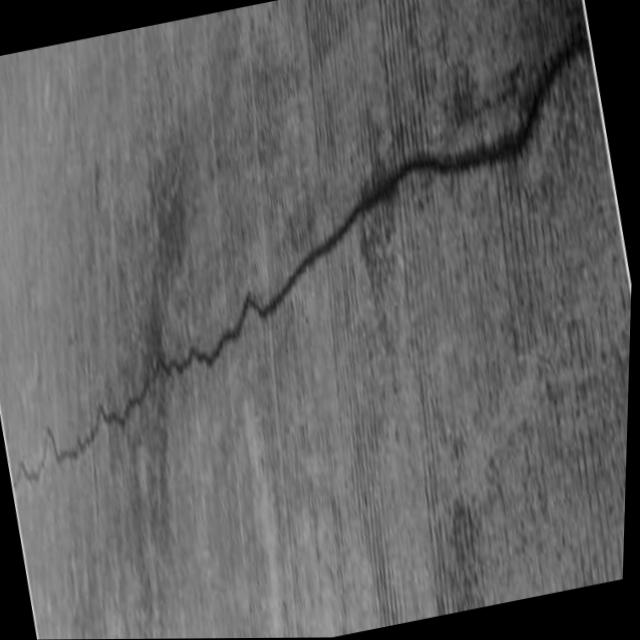Crack: (239, 15, 618, 243), (0, 337, 235, 509), (177, 220, 399, 376)
